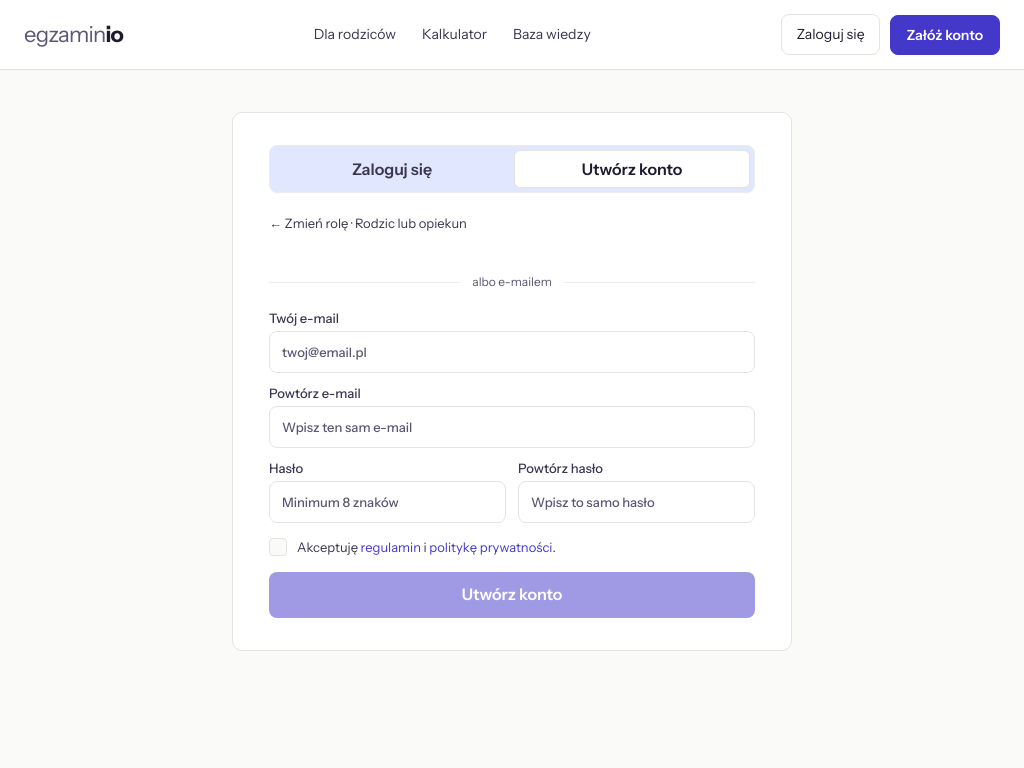
it: registration submit › shows the real profile-creation failure category and allows retry
The image size is (1024, 768).
In the field labelled "Twój e-mail": (512, 352) x1=269 y1=331 x2=755 y2=373, type "a@example.pl"
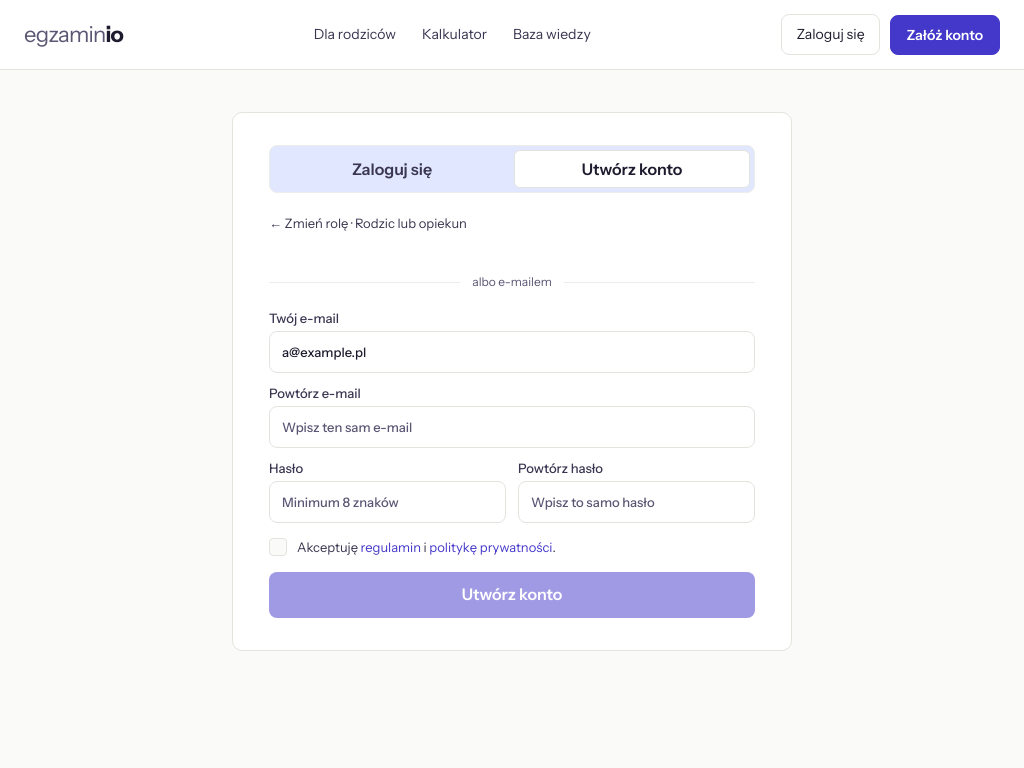
In the field labelled "Powtórz e-mail": (512, 427) x1=269 y1=406 x2=755 y2=448, type "a@example.pl"
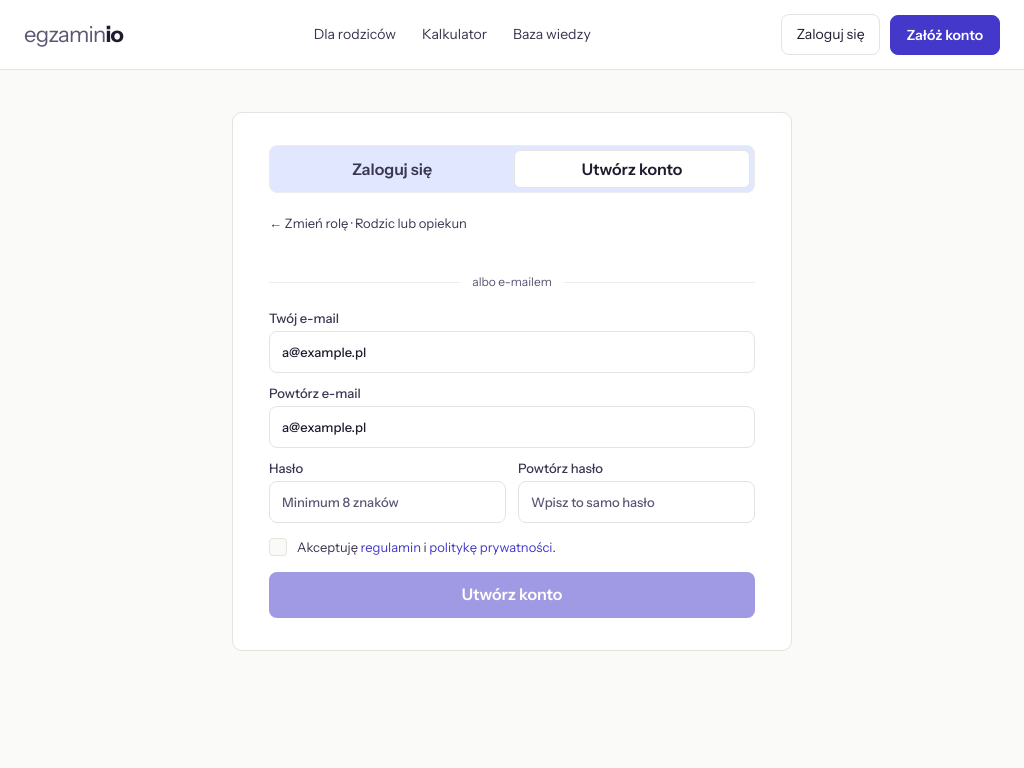
In the password field labelled "Hasło": (388, 502) x1=269 y1=481 x2=506 y2=523, type "Bezpieczne-Haslo-123"
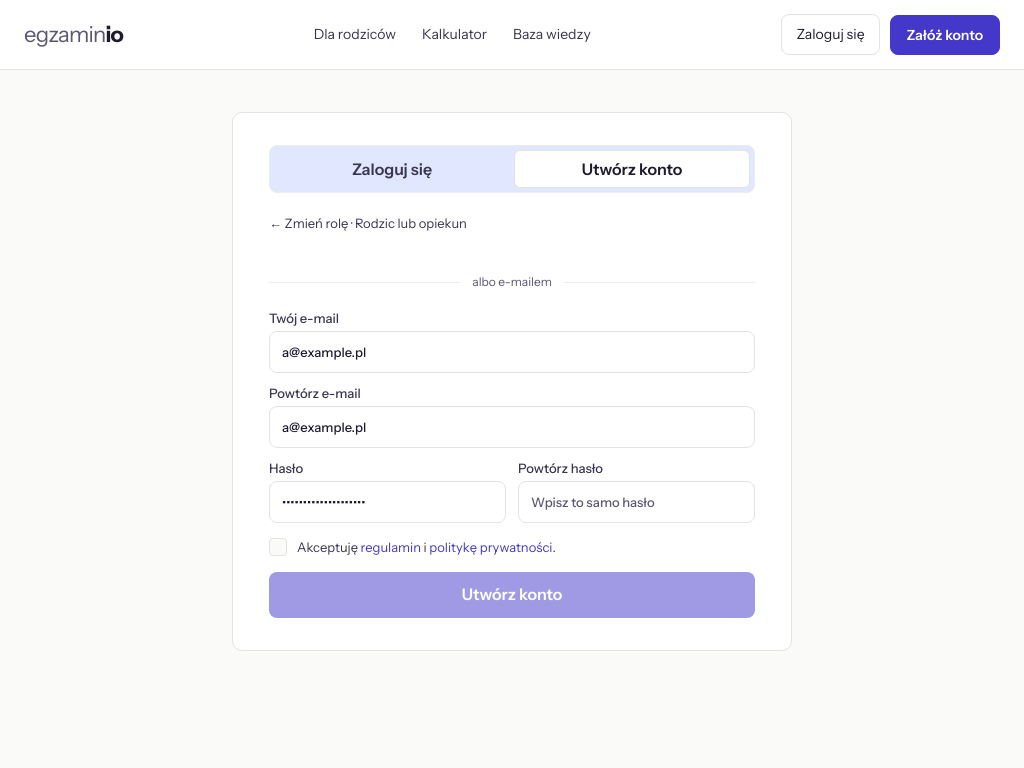
In the password field labelled "Powtórz hasło": (636, 502) x1=518 y1=481 x2=755 y2=523, type "Bezpieczne-Haslo-123"
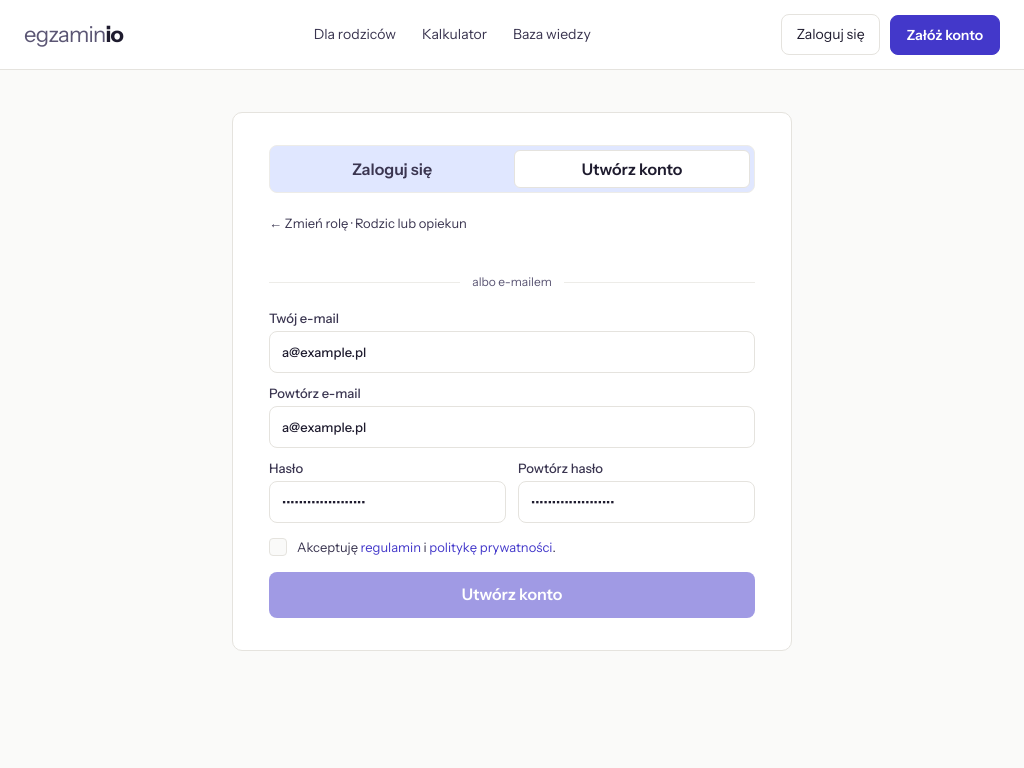
Click the checkbox named "Akceptuję": click(278, 547) x1=269 y1=538 x2=287 y2=556
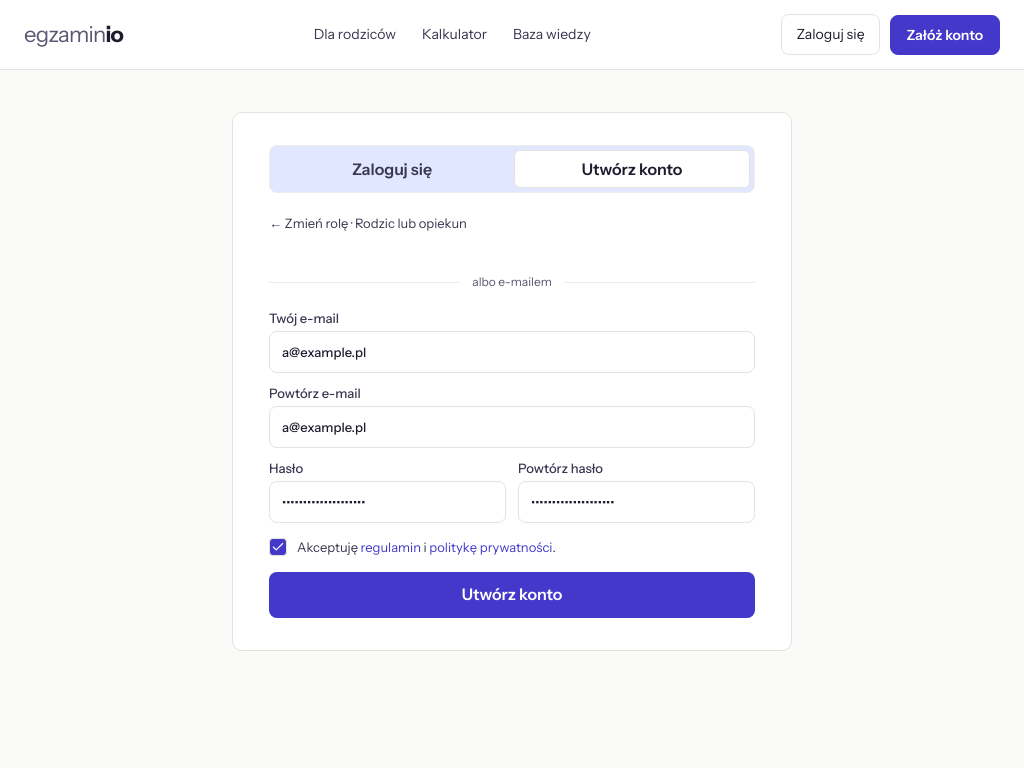
Click the button "Utwórz konto": click(512, 594) x1=269 y1=572 x2=755 y2=618
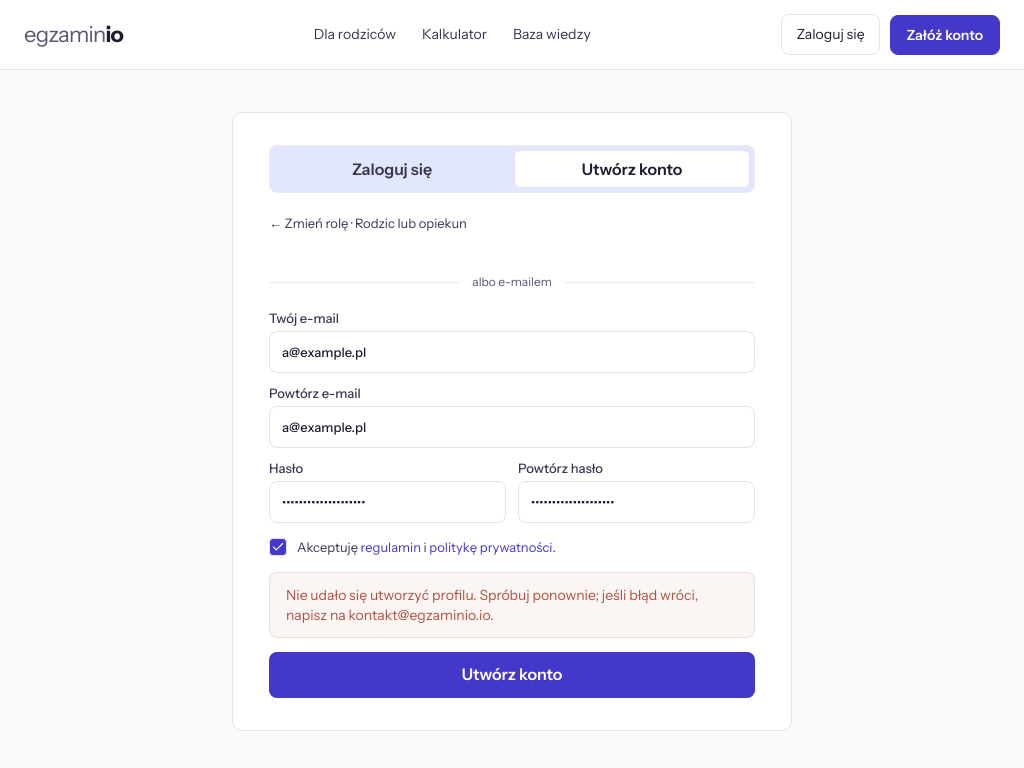
Expected: the button "Utwórz konto" is enabled, x1=269 y1=652 x2=755 y2=698
Expected: the text "Nie udało się utworzyć profilu" is shown, x1=286 y1=586 x2=698 y2=624
